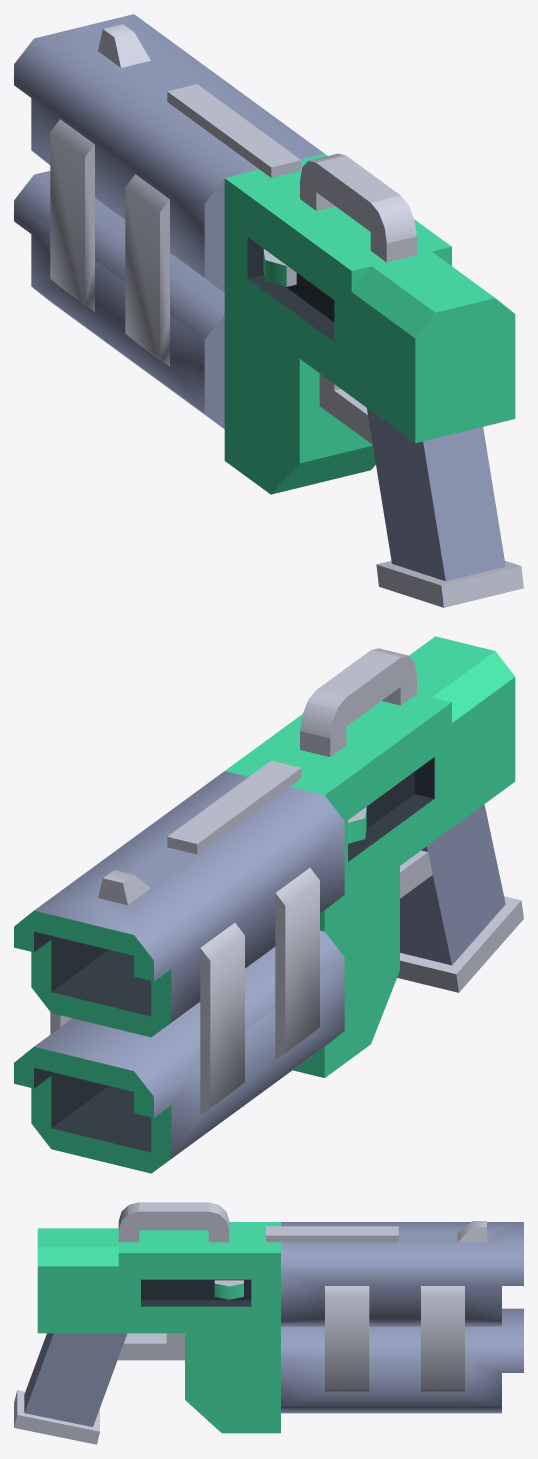
The model's file is blasterQ.obj.
The picture shows the model from 3 angles, top to bottom: view 1: azimuth 30°, elevation 25°; view 2: azimuth 150°, elevation 25°; view 3: azimuth 270°, elevation 25°; orthographic projection. The views are drawn at different scales.
Visible parts, largest first — view 1: blasterQ; view 2: blasterQ; view 3: blasterQ.
Boxes of the visible parts, x1,y1,x2,y2 form: blasterQ: [14, 14, 523, 607]; blasterQ: [14, 636, 523, 1173]; blasterQ: [14, 1202, 523, 1444].
Size of the model in its own units: 0.16 by 0.3376 by 0.6922.
